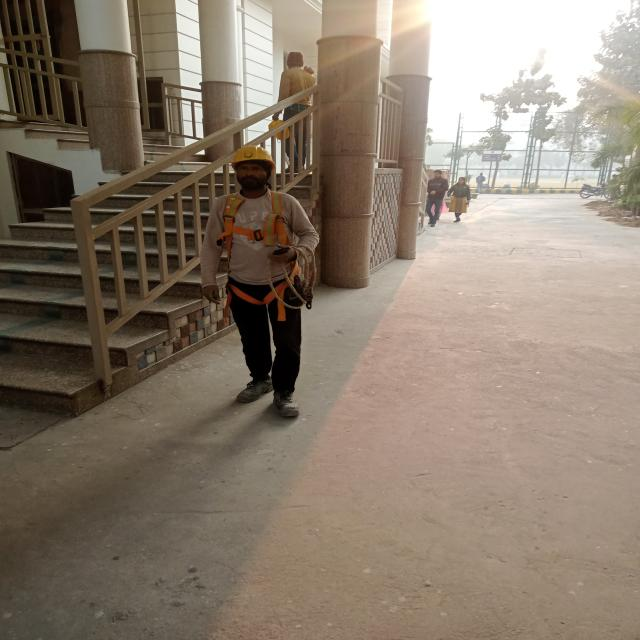no jacket: (198, 146, 325, 423)
unsafe: (280, 51, 309, 172), (425, 169, 446, 226), (448, 176, 472, 223)
